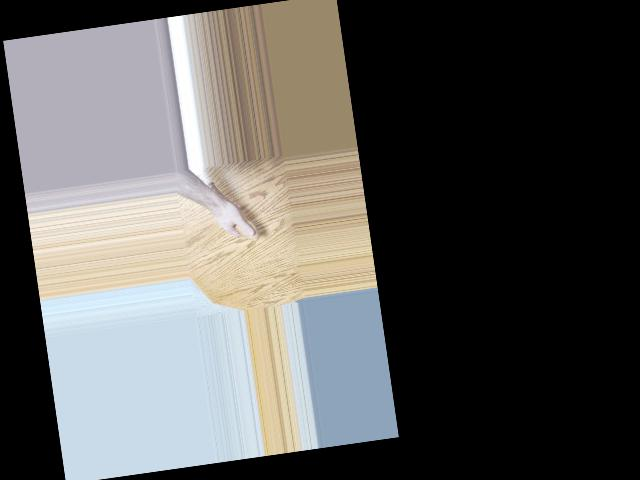sweet_potato: (204, 174, 259, 248)
